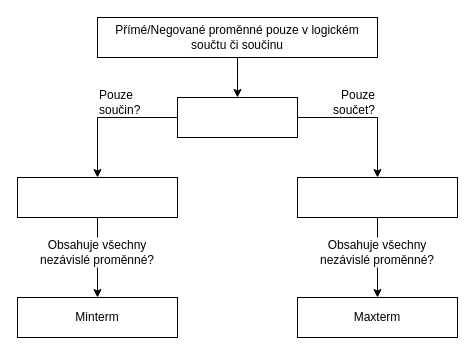
The diagram is 475 pixels wide and 355 high, and some of its shapes have lost their labels. Here are the shapes that lost their labels. From the top down, the centre of each, then its label:
the point at 237,117: Term
the point at 97,197: Product Term (P-Term)
the point at 377,197: Sum Term (S-Term)
